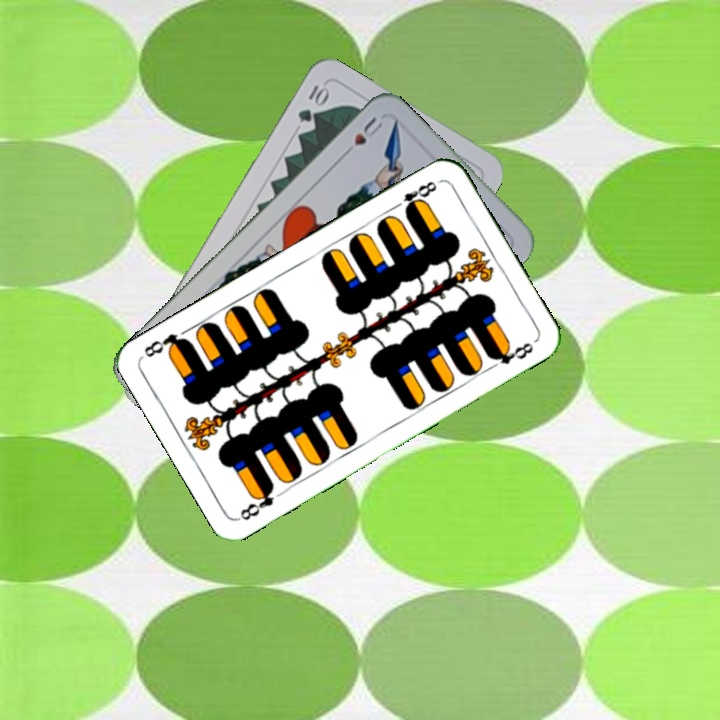E8: (388, 177, 440, 216), (235, 480, 277, 523)
G10: (293, 80, 331, 125)
HU: (338, 113, 386, 160)
